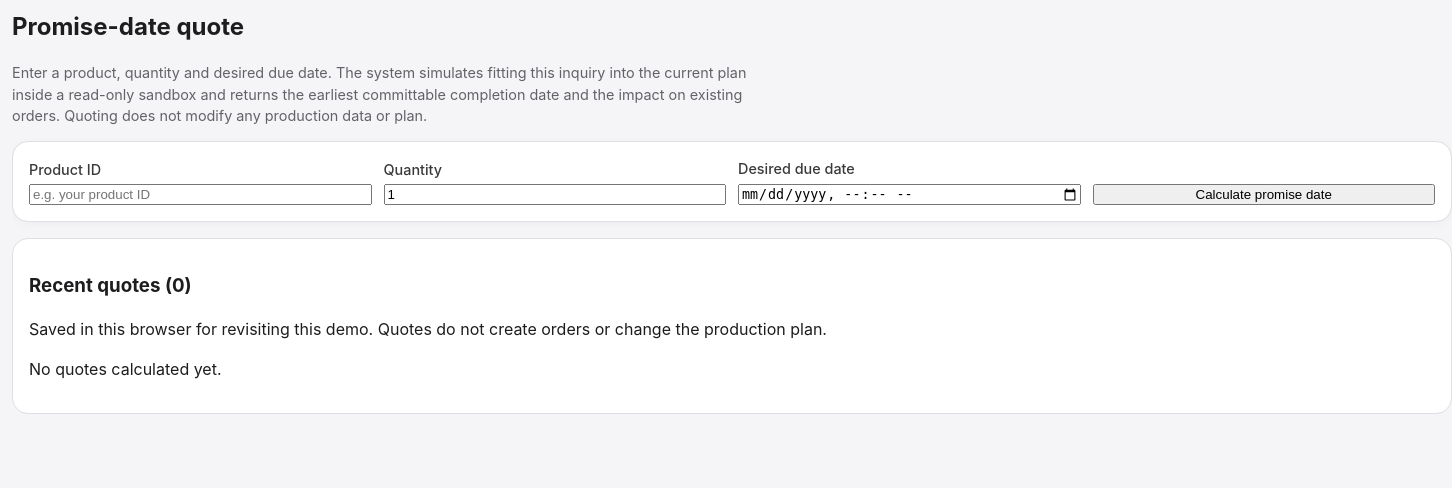
Test case: Quote 视图 › 无 ACTIVE 计划时显示明确提示（不空白）
The width and height of the screenshot is (1452, 488).
Type "PRD-BRACKET" into the field labelled "Product ID".
click(200, 195); type("PRD-BRACKET")  # box [29, 184, 372, 205]
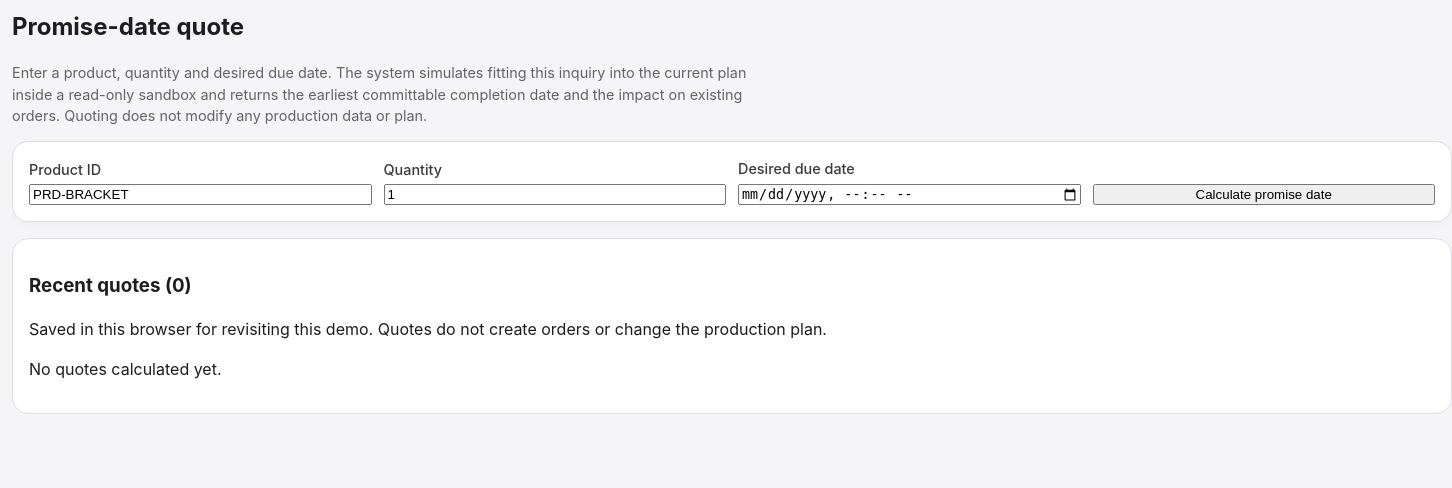
Replace the text in the number field labelled "Quantity" with "3" at (555, 195), box [384, 184, 726, 205]
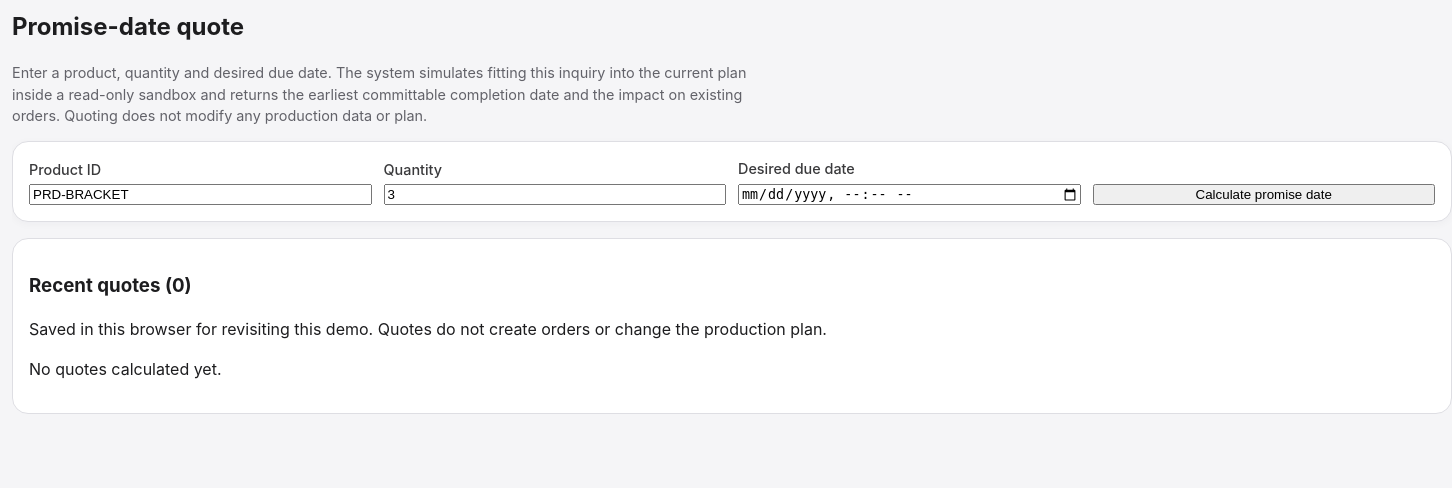
Type "2026-03-14T08:00" into the field labelled "Desired due date".
click(909, 194); type("2026-03-14T08:00")  # box [738, 184, 1080, 205]
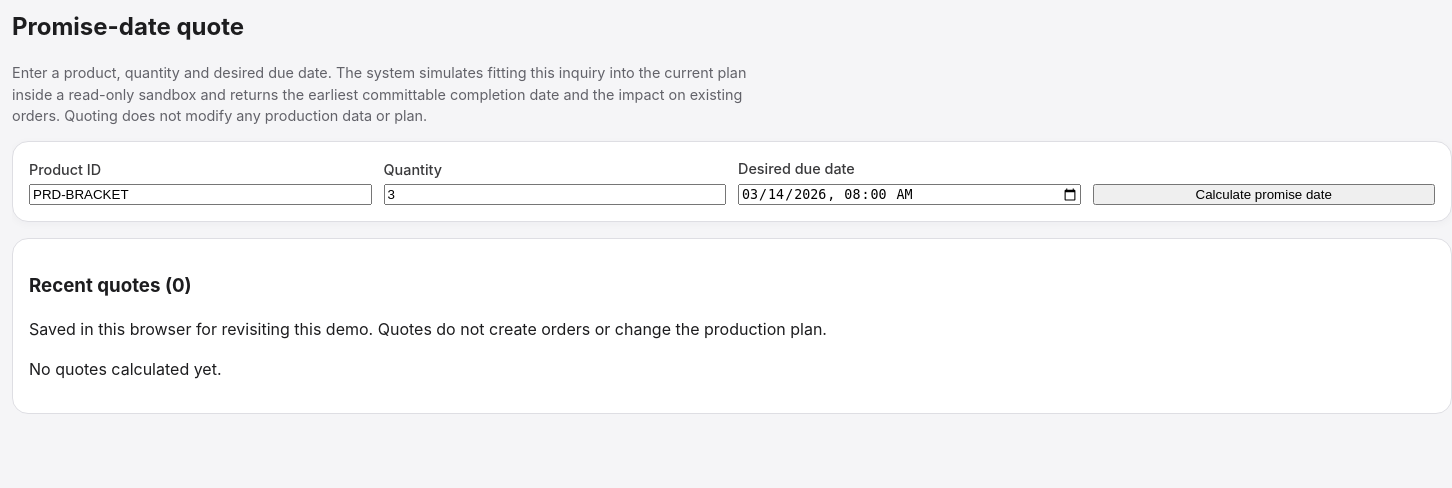
Click the button "Calculate promise date".
click(1264, 195)  # box [1092, 184, 1435, 205]
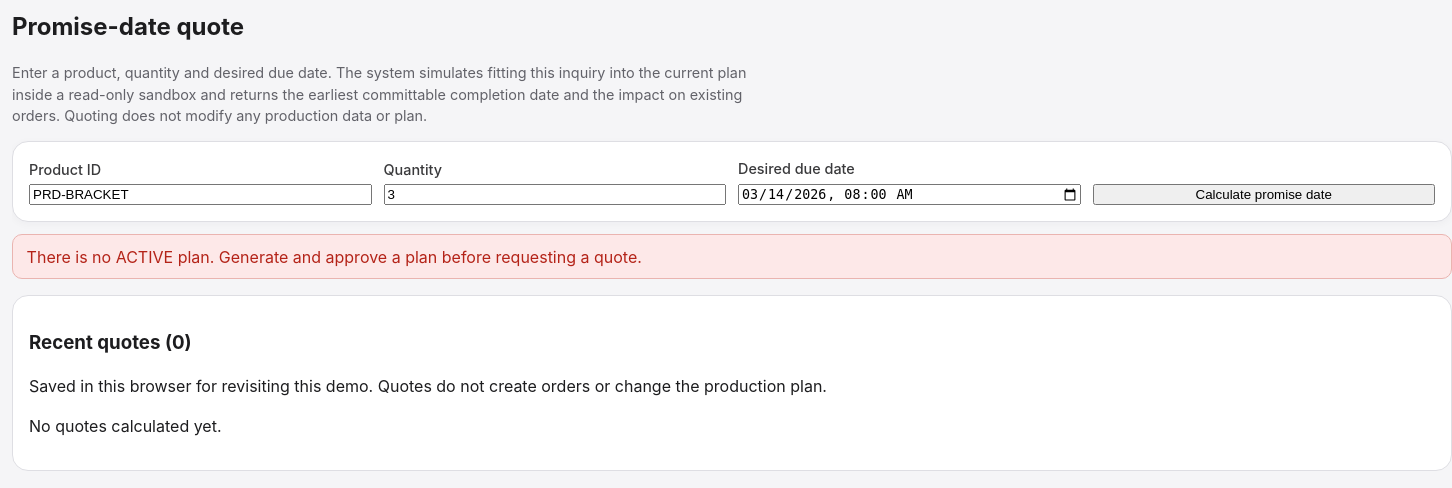
Expected: the message shows "no ACTIVE plan", [27, 247, 642, 267]
